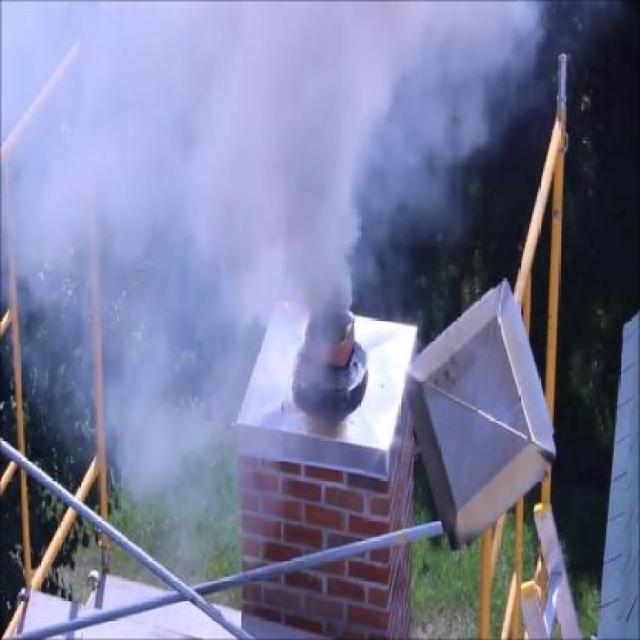smoke: (98, 53, 247, 442), (267, 40, 376, 311), (392, 16, 528, 207)
